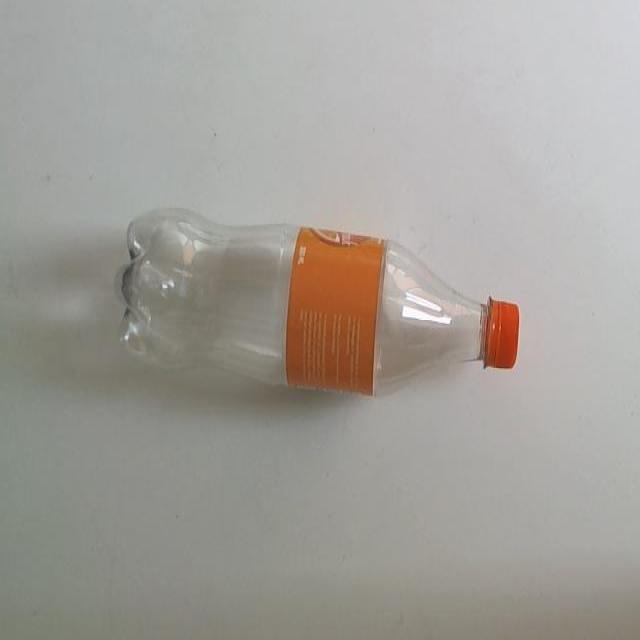non-defect: (116, 205, 522, 402)
